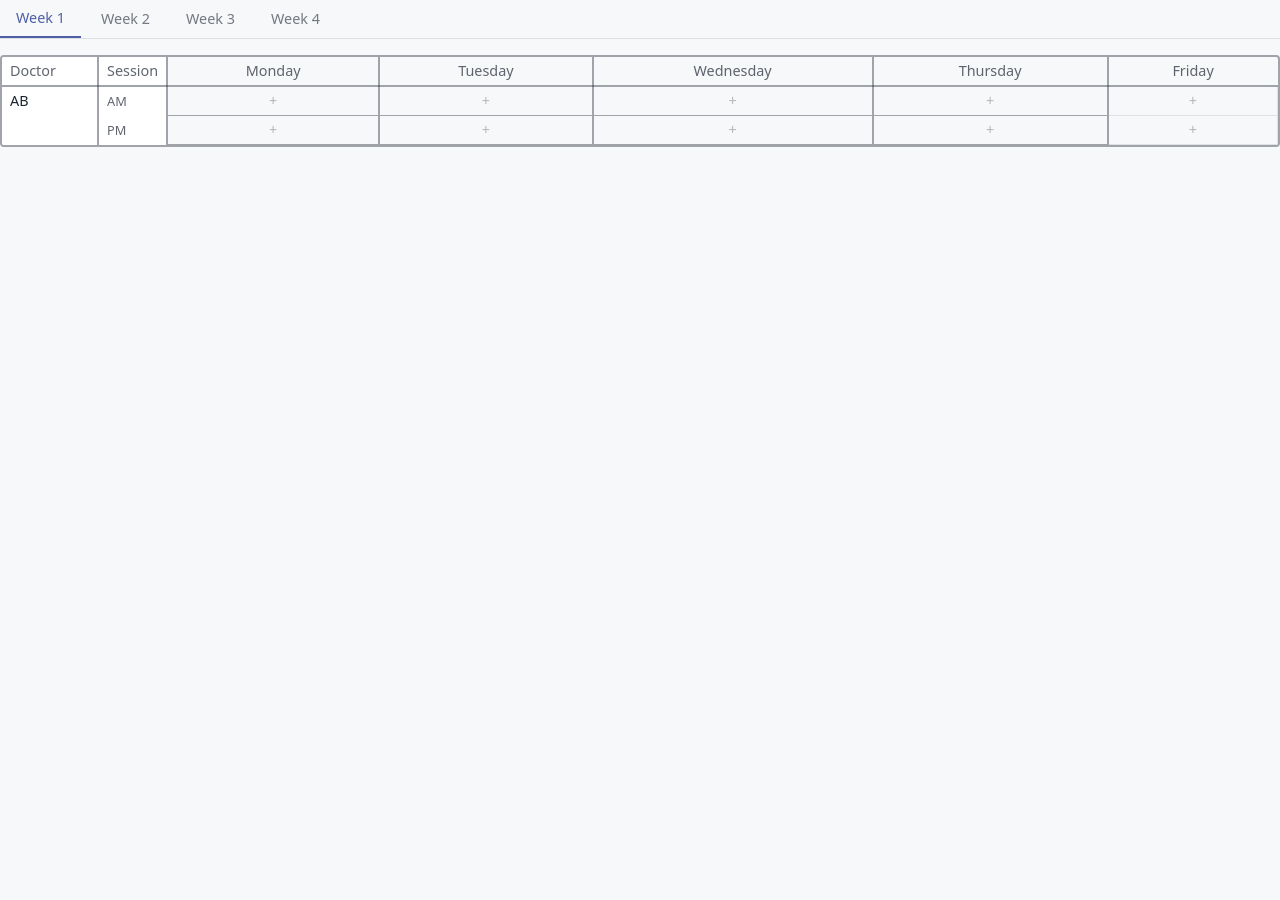
Scenario: MasterRotaGrid › renders an add affordance on an absent cell for an active doctor, opening the popover in create mode
The width and height of the screenshot is (1280, 900).
Click the button named "Add session for AB Monday AM": (273, 101) [176,91,370,111]
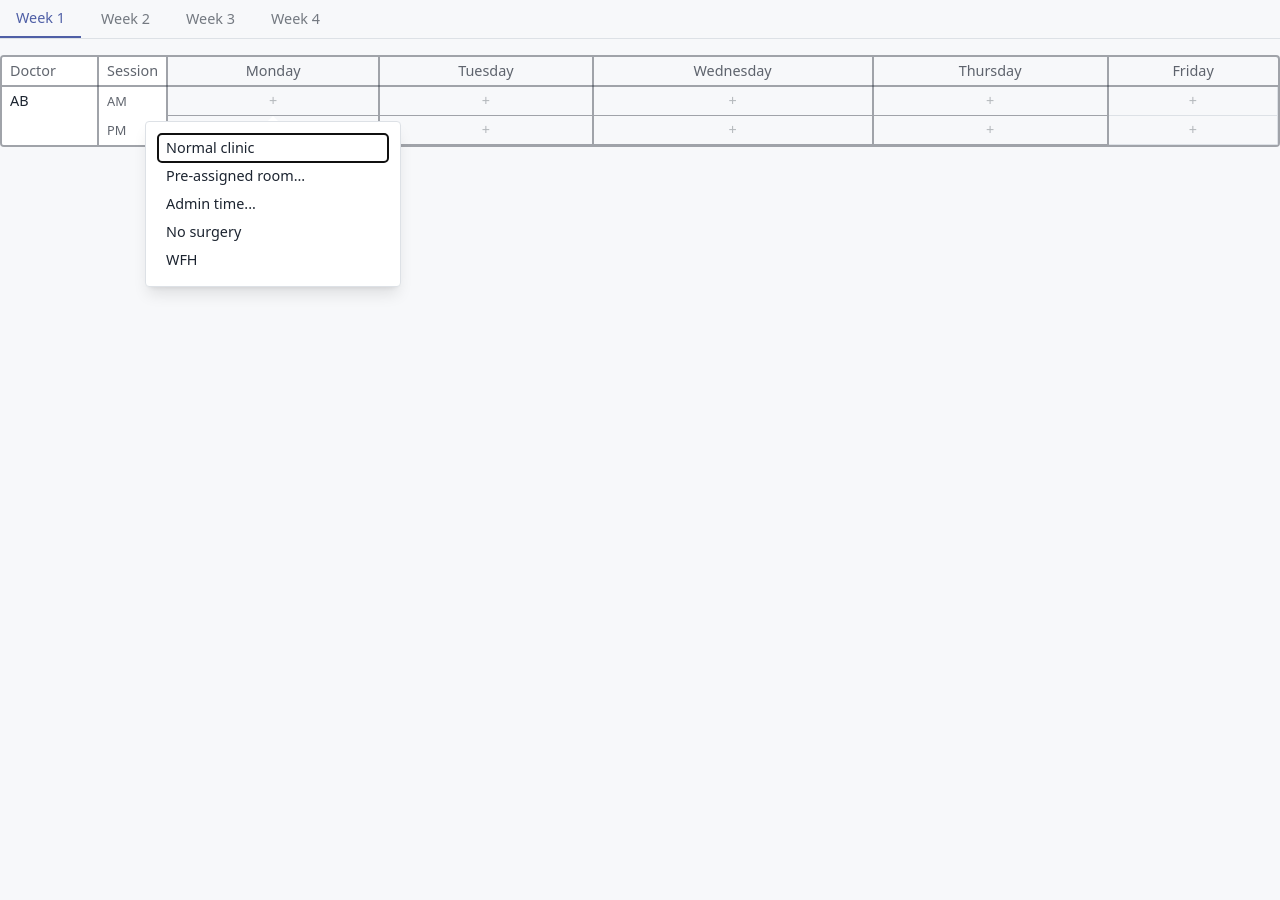
Now the button "Normal clinic" is shown, box [158,134,388,162]
Now the button "No surgery" is shown, box [158,218,388,246]
